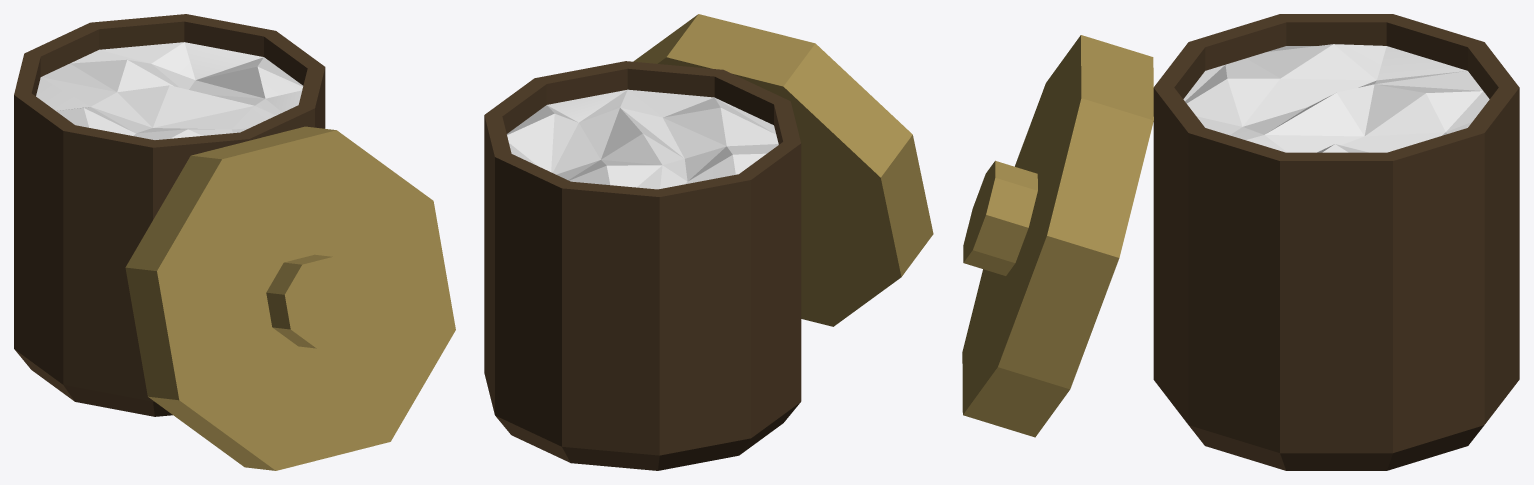
The model's file is Jar_WitchSalt.fbx.
The picture shows the model from 3 angles, left to right: view 1: azimuth 30°, elevation 25°; view 2: azimuth 150°, elevation 25°; view 3: azimuth 270°, elevation 25°; orthographic projection. The views are drawn at different scales.
Visible parts, largest first — view 1: lit, jar, saltLayer; view 2: jar, lit, saltLayer; view 3: jar, lit, saltLayer.
Boxes of the visible parts, box(x1,y1,x2,y2) form: lit: box(125, 126, 455, 470); jar: box(14, 14, 325, 416); saltLayer: box(36, 42, 303, 139); jar: box(484, 61, 801, 470); lit: box(633, 14, 933, 326); saltLayer: box(507, 89, 778, 189); jar: box(1153, 14, 1519, 470); lit: box(962, 35, 1153, 437); saltLayer: box(1183, 44, 1489, 152).
Bounding box in the file's own units: 17.83 × 18.07 × 26.89.
